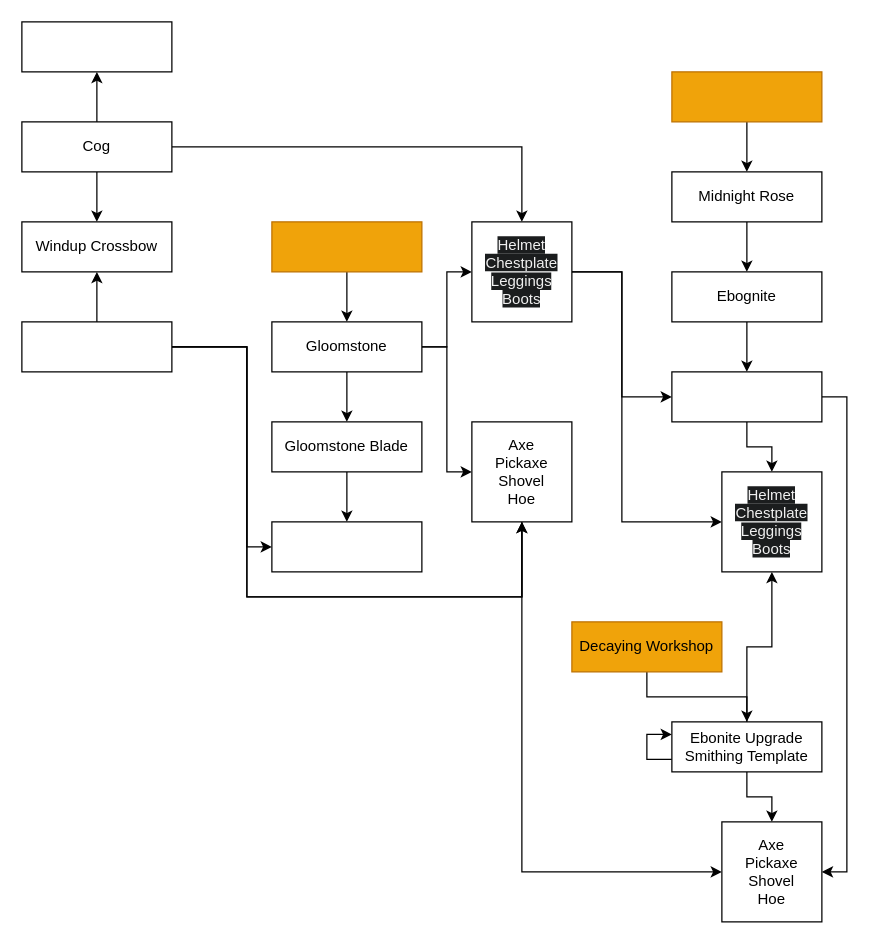
The diagram is 879 pixels wide and 944 high, and some of its shapes have lost their labels. The centre of each missing label's shape, as x and y in pixels:
Automatic Bow: (96,46)
Dagger Double Bladed Sword: (346,546)
Ebonite: (746,396)
Gloomstone Shard: (346,246)
Midnight Rose Seeds: (746,96)
Screw: (96,346)
